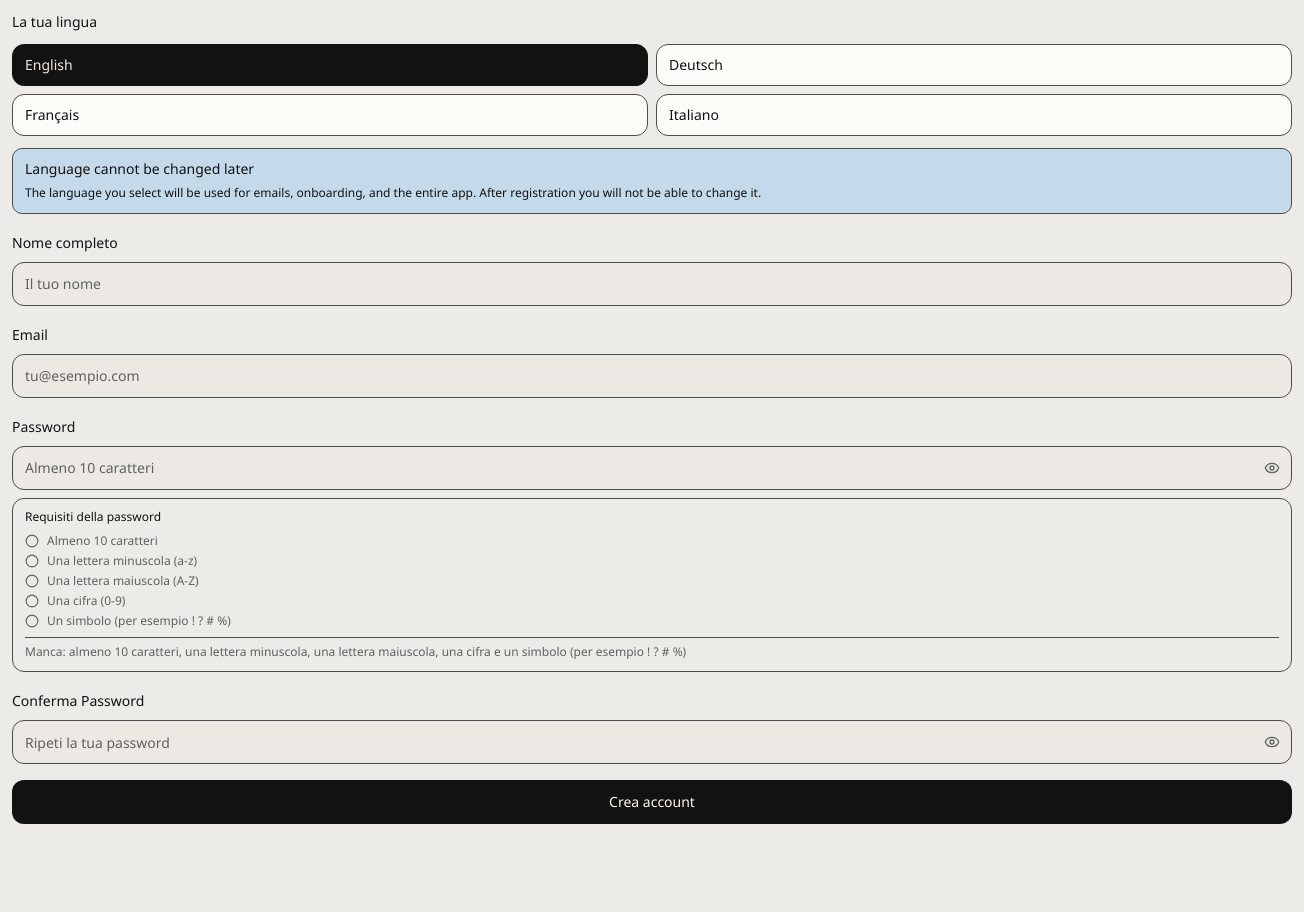
Test: RegisterForm — regole password, mostra/nascondi e weak_password › mostra il messaggio tradotto quando Supabase restituisce weak_password con reason pwned
Type "anna@example.com" into the field labelled "Email" at (652, 376), box [12,354,1292,398]
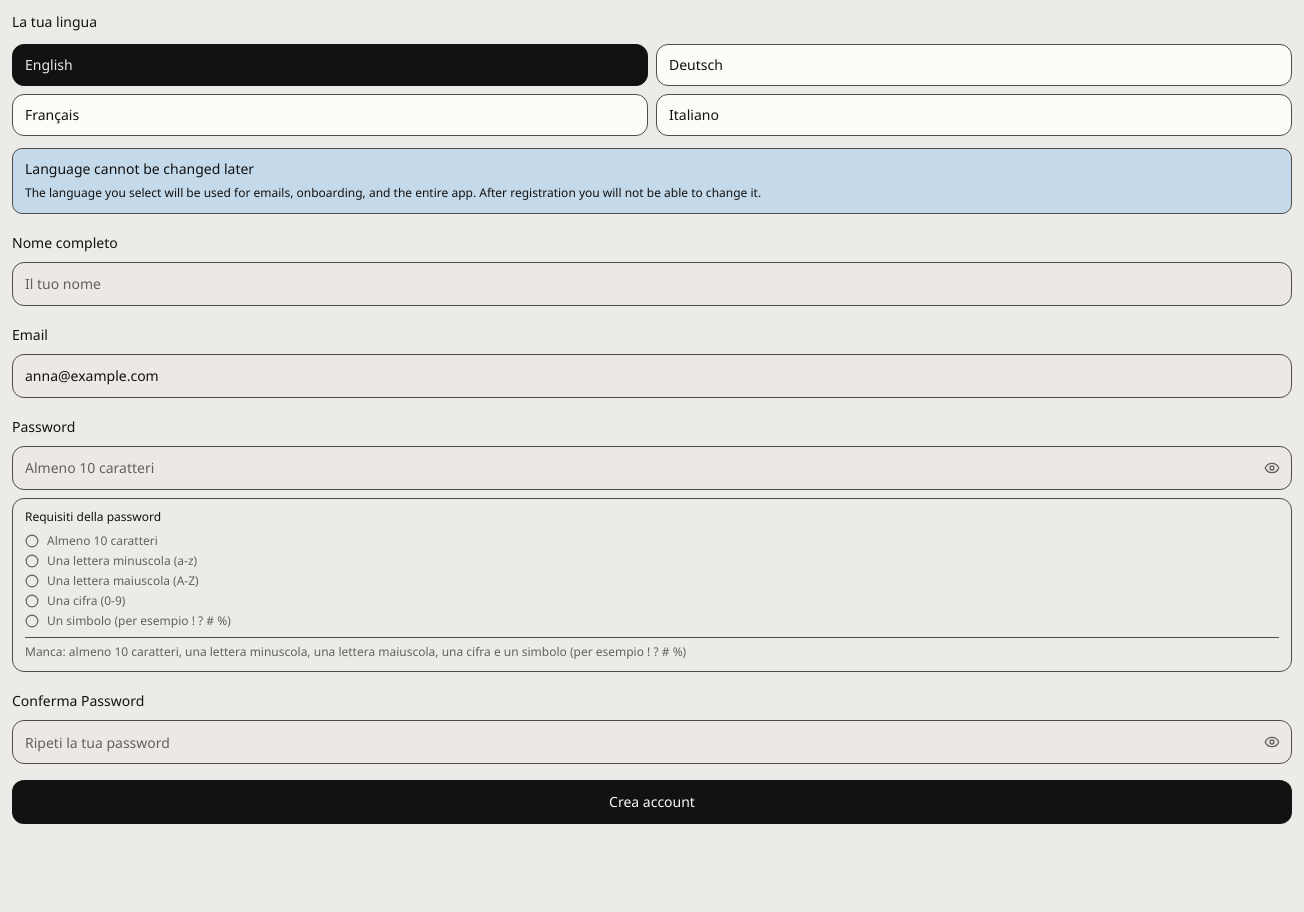
Type "Password123!" into the password field labelled "Password" at (652, 468), box [12,446,1292,490]
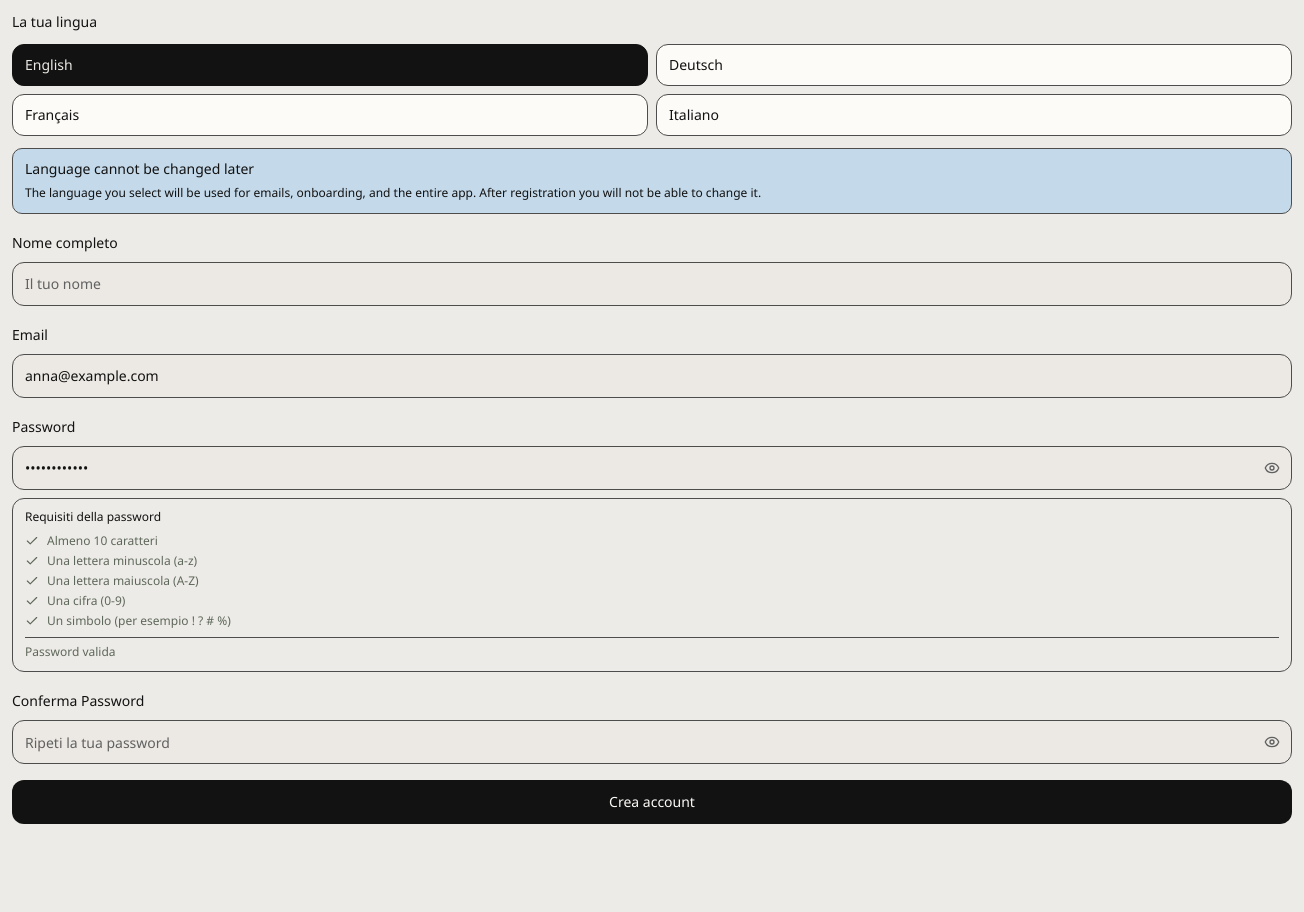
Type "Password123!" into the password field labelled "Conferma Password" at (652, 742), box [12,720,1292,764]
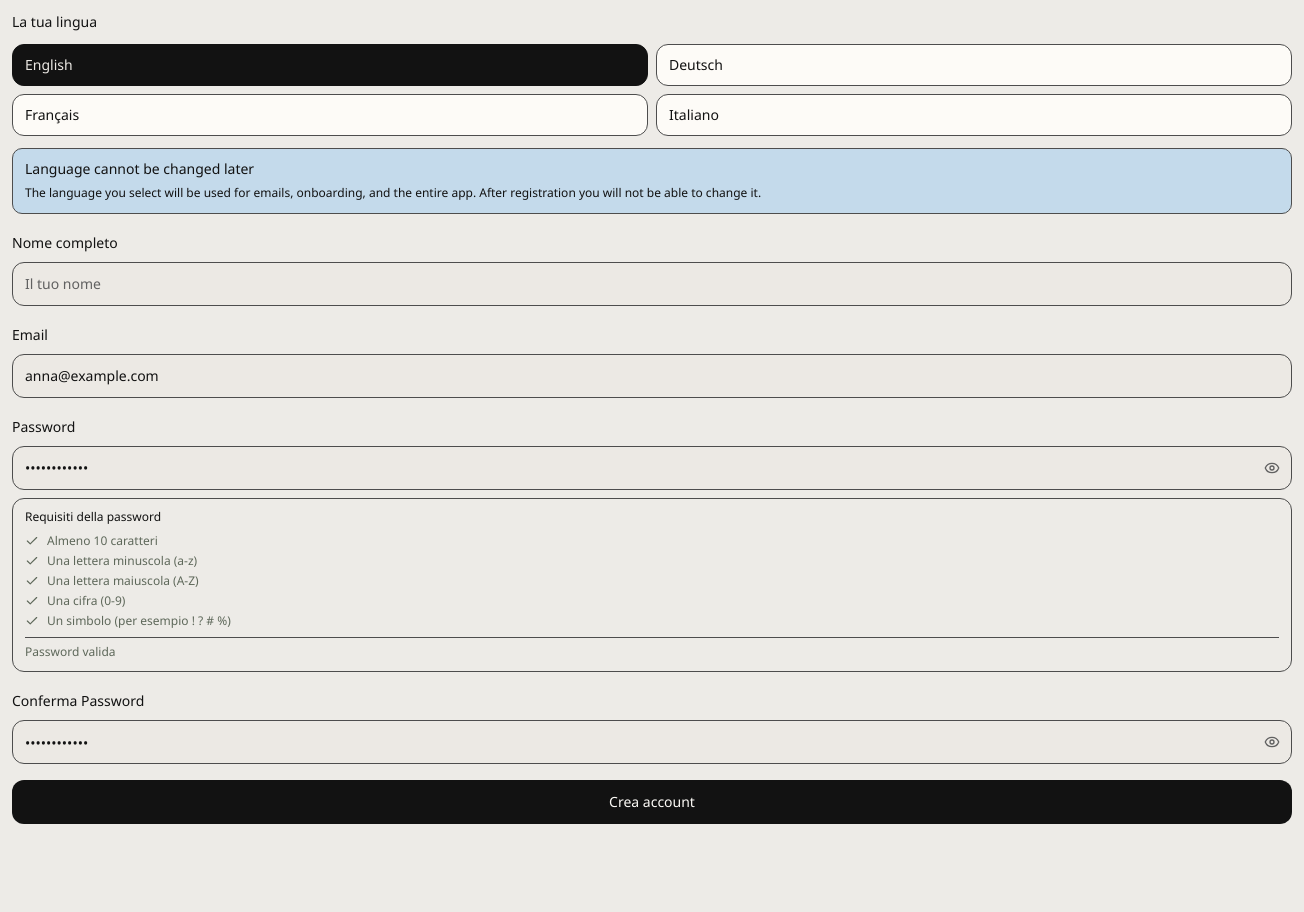
Click the button "Crea account" at (652, 802), box [12,780,1292,824]
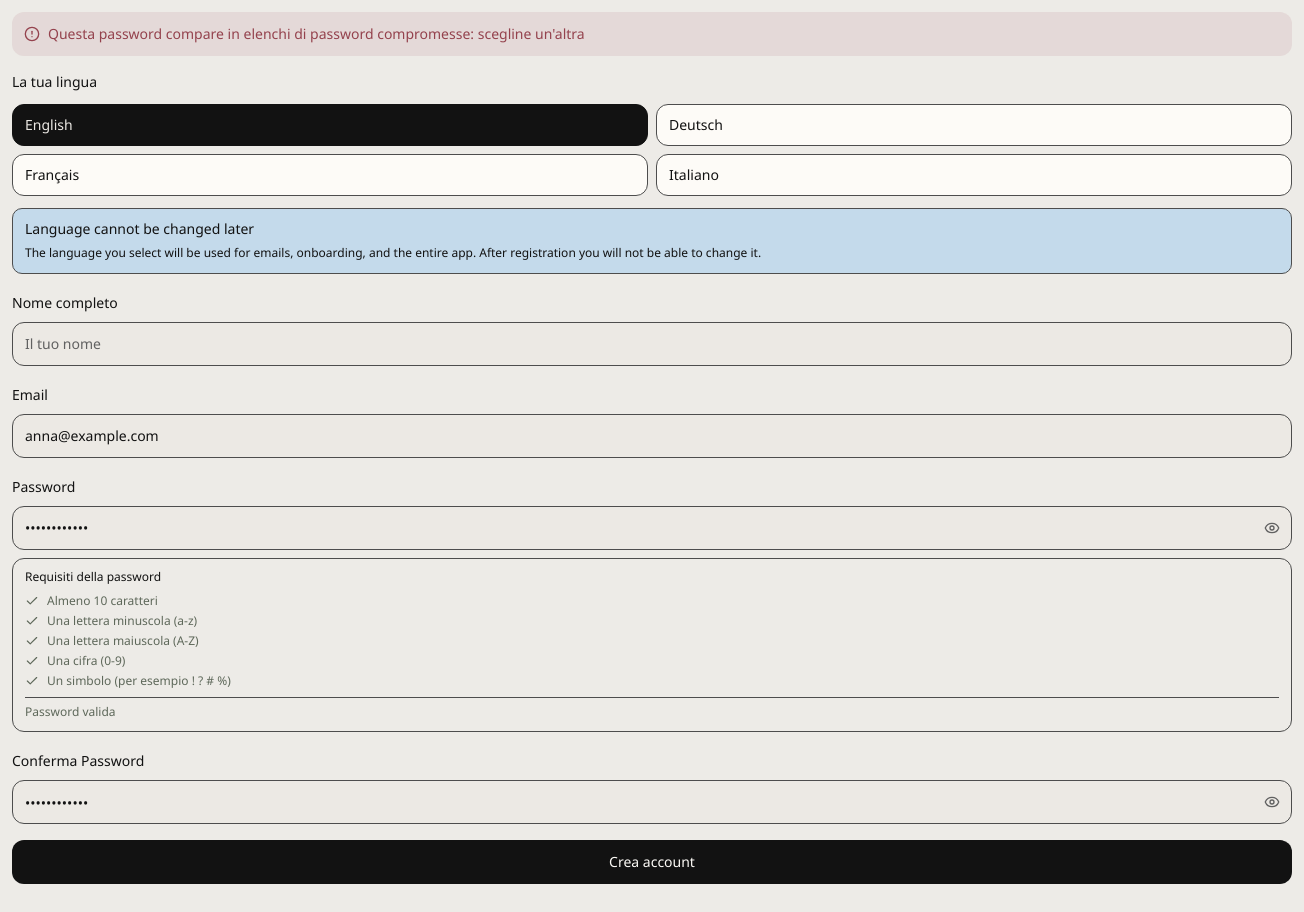
expect the text "Questa password compare in elenchi di password compromesse: scegline un'altra" is shown: met, box [48,24,585,44]
